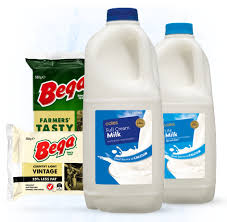milk: (87, 8, 166, 211), (160, 20, 218, 205)
